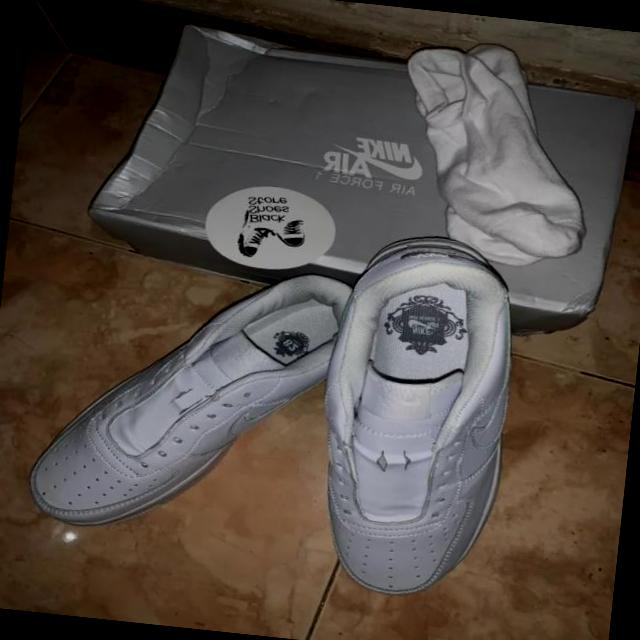nike_fake_airforce: (23, 245, 376, 556), (306, 230, 528, 603)
